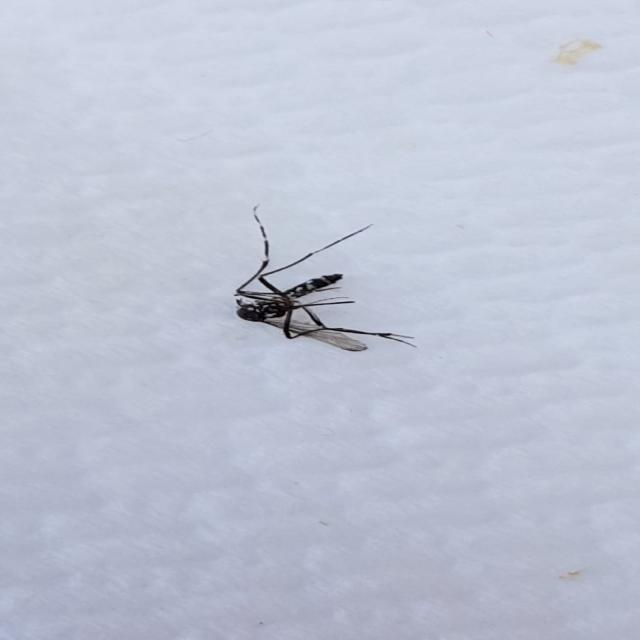albopictus: (205, 205, 416, 352)
